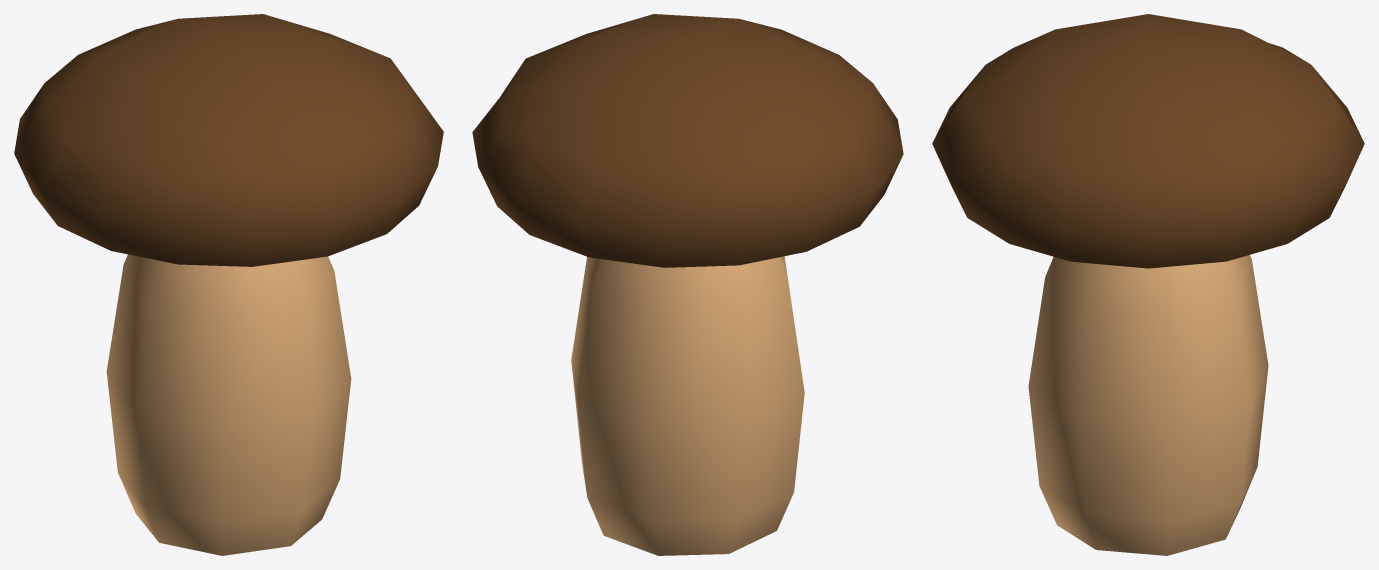
File: Bay_Bolete_Big.fbx
3 views of the same model, side by side, from view 1: azimuth 30°, elevation 25°; view 2: azimuth 150°, elevation 25°; view 3: azimuth 270°, elevation 25° (orthographic).
Visible parts, largest first — view 1: Bay_Bolete_Big; view 2: Bay_Bolete_Big; view 3: Bay_Bolete_Big.
Part boxes in pixels (left/top/right/bottom): Bay_Bolete_Big: left=14, top=14, right=443, bottom=555; Bay_Bolete_Big: left=472, top=14, right=903, bottom=555; Bay_Bolete_Big: left=932, top=14, right=1364, bottom=555.
Bounding box in the file's own units: 24.85 × 30.38 × 24.85.
1 material, 1 textured.
